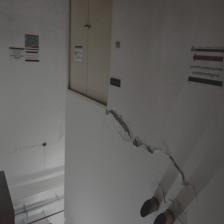Medium: (108, 106, 200, 190)
